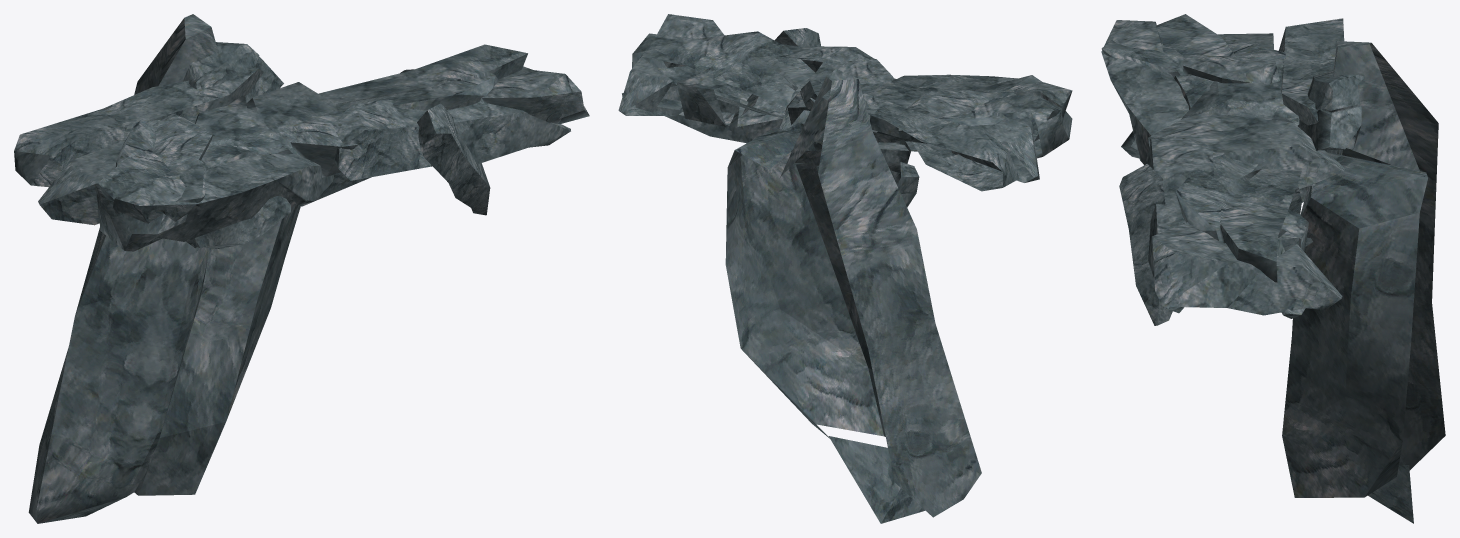
File: FloatPiece1.fbx
3 renders of one model, left to right at view 1: azimuth 30°, elevation 25°; view 2: azimuth 150°, elevation 25°; view 3: azimuth 270°, elevation 25°, orthographic. The views are drawn at different scales.
Parts seen in each view (by area): view 1: PlateauRockPiece1; view 2: PlateauRockPiece1; view 3: PlateauRockPiece1.
Boxes of the visible parts, box(x1,y1,x2,y2) form: PlateauRockPiece1: box(14, 14, 589, 523); PlateauRockPiece1: box(618, 14, 1072, 523); PlateauRockPiece1: box(1101, 14, 1445, 523).
Bounding box in the file's own units: 11.18 × 10.57 × 6.3.
